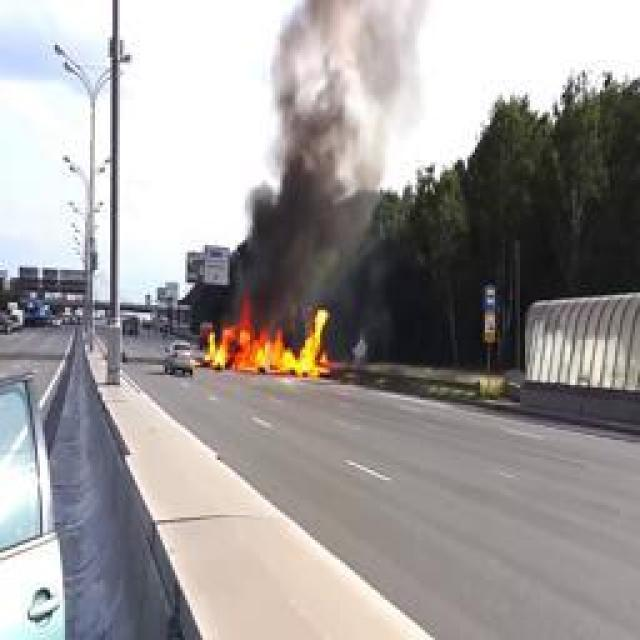Fire: (200, 290, 332, 375)
